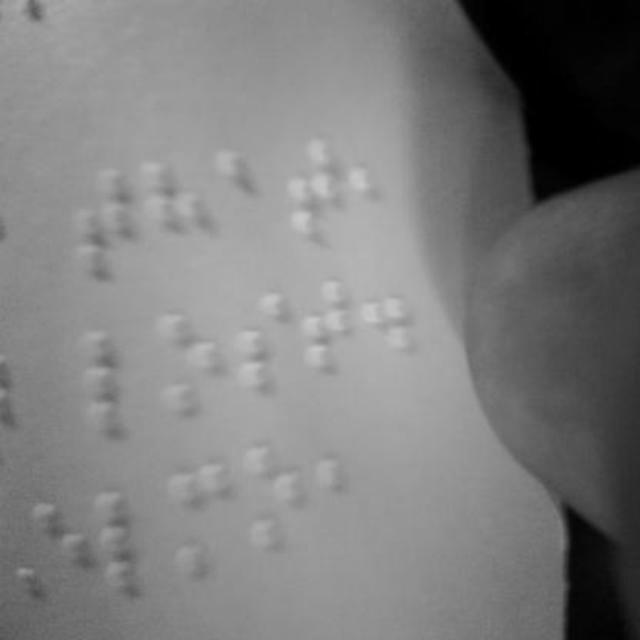braiile: (144, 158, 212, 274), (100, 488, 164, 608), (242, 440, 304, 552), (284, 134, 342, 250), (302, 274, 360, 388), (158, 308, 220, 414), (73, 172, 131, 280), (172, 462, 226, 576), (218, 144, 272, 254), (40, 496, 96, 602), (87, 328, 145, 429), (236, 292, 292, 396)
